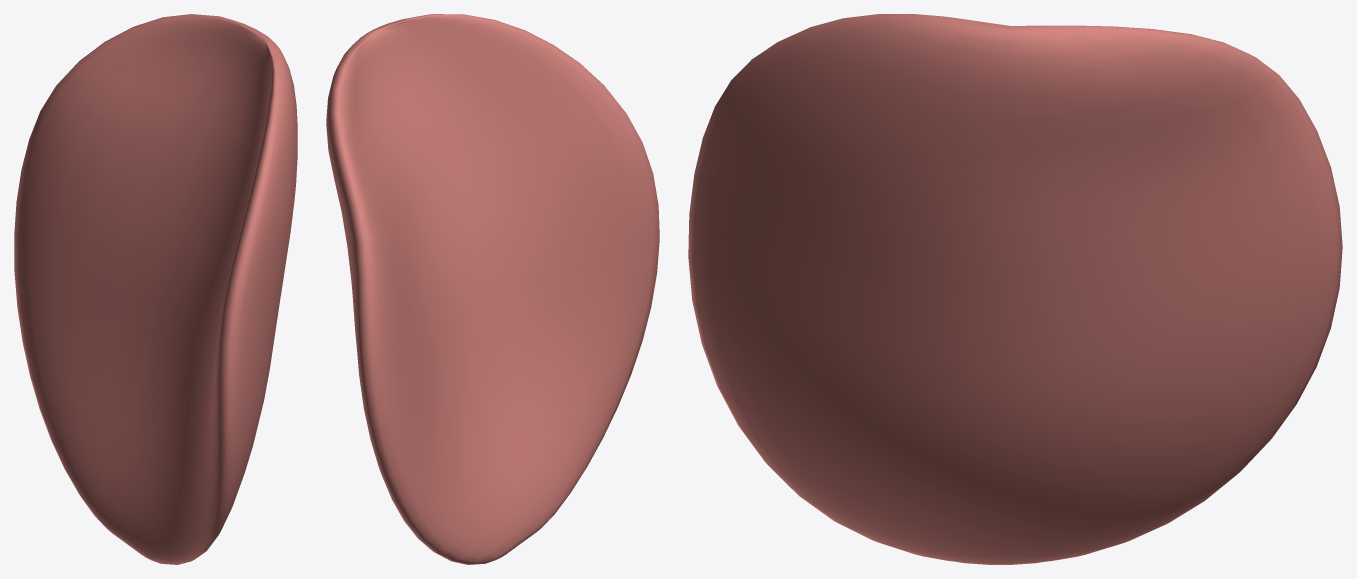
The picture shows the model from 3 angles, left to right: view 1: azimuth 30°, elevation 25°; view 2: azimuth 150°, elevation 25°; view 3: azimuth 270°, elevation 25°; orthographic projection. The views are drawn at different scales.
Visible parts, largest first — view 1: ZA_279493841a221ed4; view 2: ZA_279493841a221ed4; view 3: ZA_279493841a221ed4.
Boxes of the visible parts, bbox=[...] form: ZA_279493841a221ed4: bbox=[14, 14, 297, 564]; ZA_279493841a221ed4: bbox=[326, 14, 659, 564]; ZA_279493841a221ed4: bbox=[688, 14, 1342, 564].
Bounding box in the file's own units: 0.0115 × 0.0294 × 0.0279.
